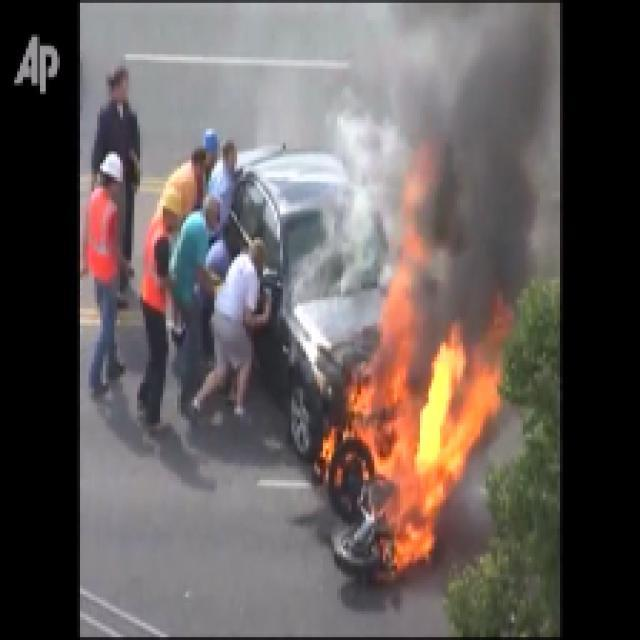Fire: (351, 360, 489, 566)
Smoke: (418, 65, 546, 318)
